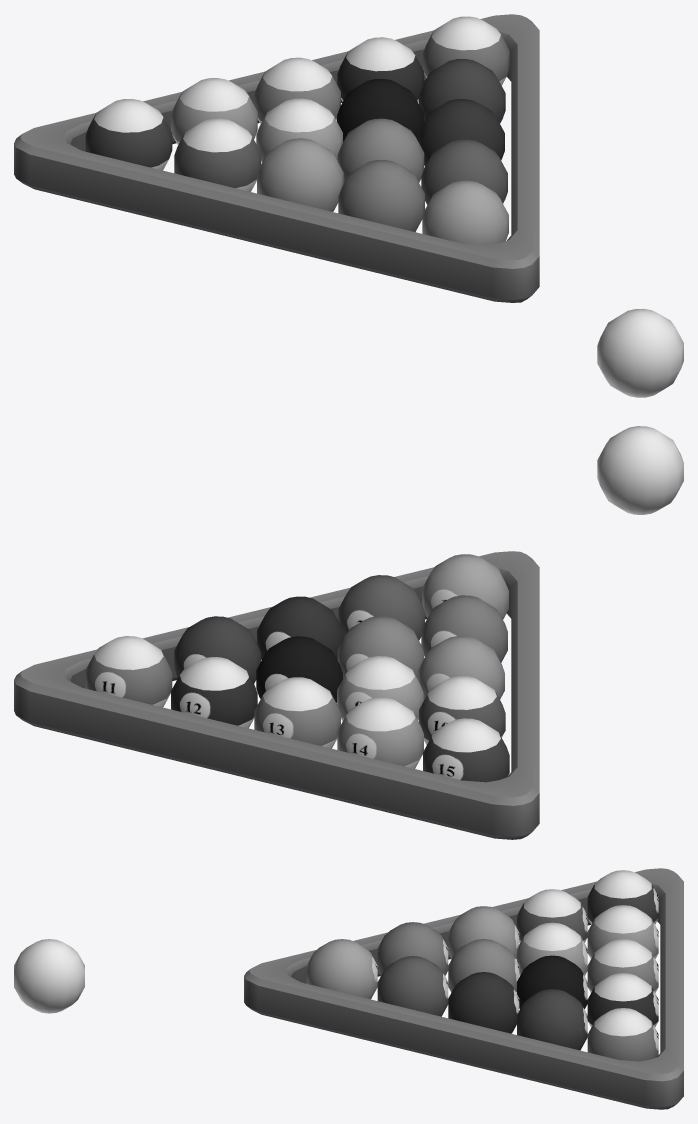
The model's file is poolBalls.fbx.
3 views of the same model, one above another, from view 1: azimuth 30°, elevation 25°; view 2: azimuth 150°, elevation 25°; view 3: azimuth 270°, elevation 25° (orthographic). The views are drawn at different scales.
Visible parts, largest first — view 1: poolBalls; view 2: poolBalls; view 3: poolBalls.
Part boxes in pixels (bbox=[...]): poolBalls: bbox=[14, 14, 683, 397]; poolBalls: bbox=[14, 426, 683, 839]; poolBalls: bbox=[14, 868, 683, 1109].
Size of the model in its own units: 0.5317 by 0.0795 by 0.7149.
